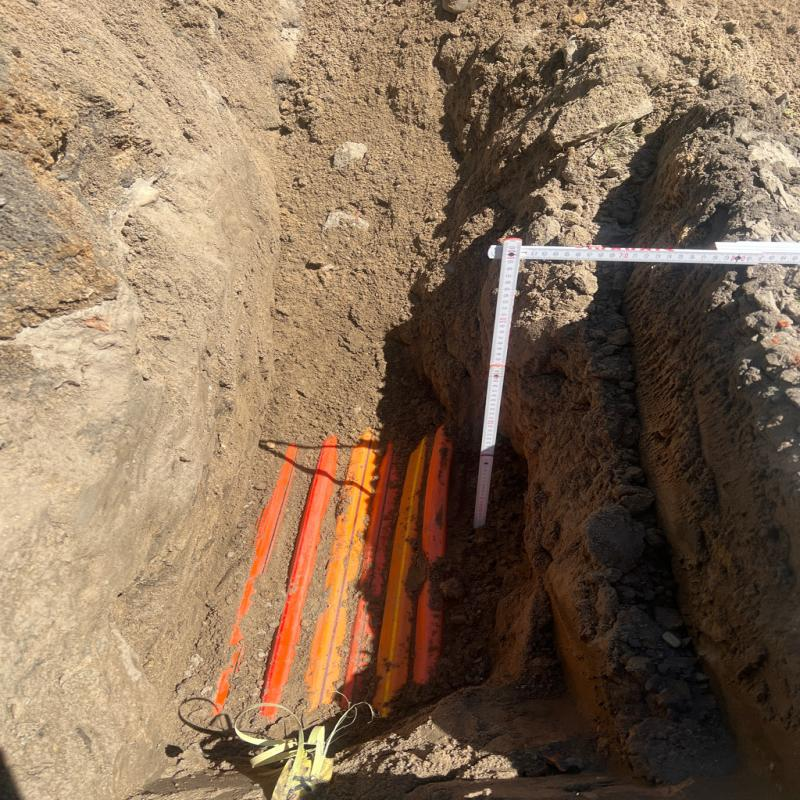Orang-Speednetrohrchen: (305, 430, 450, 705), (212, 443, 297, 710), (257, 436, 336, 715)
